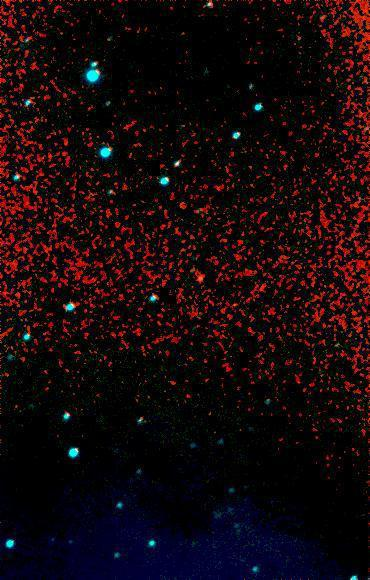star: (179, 528, 209, 558)
